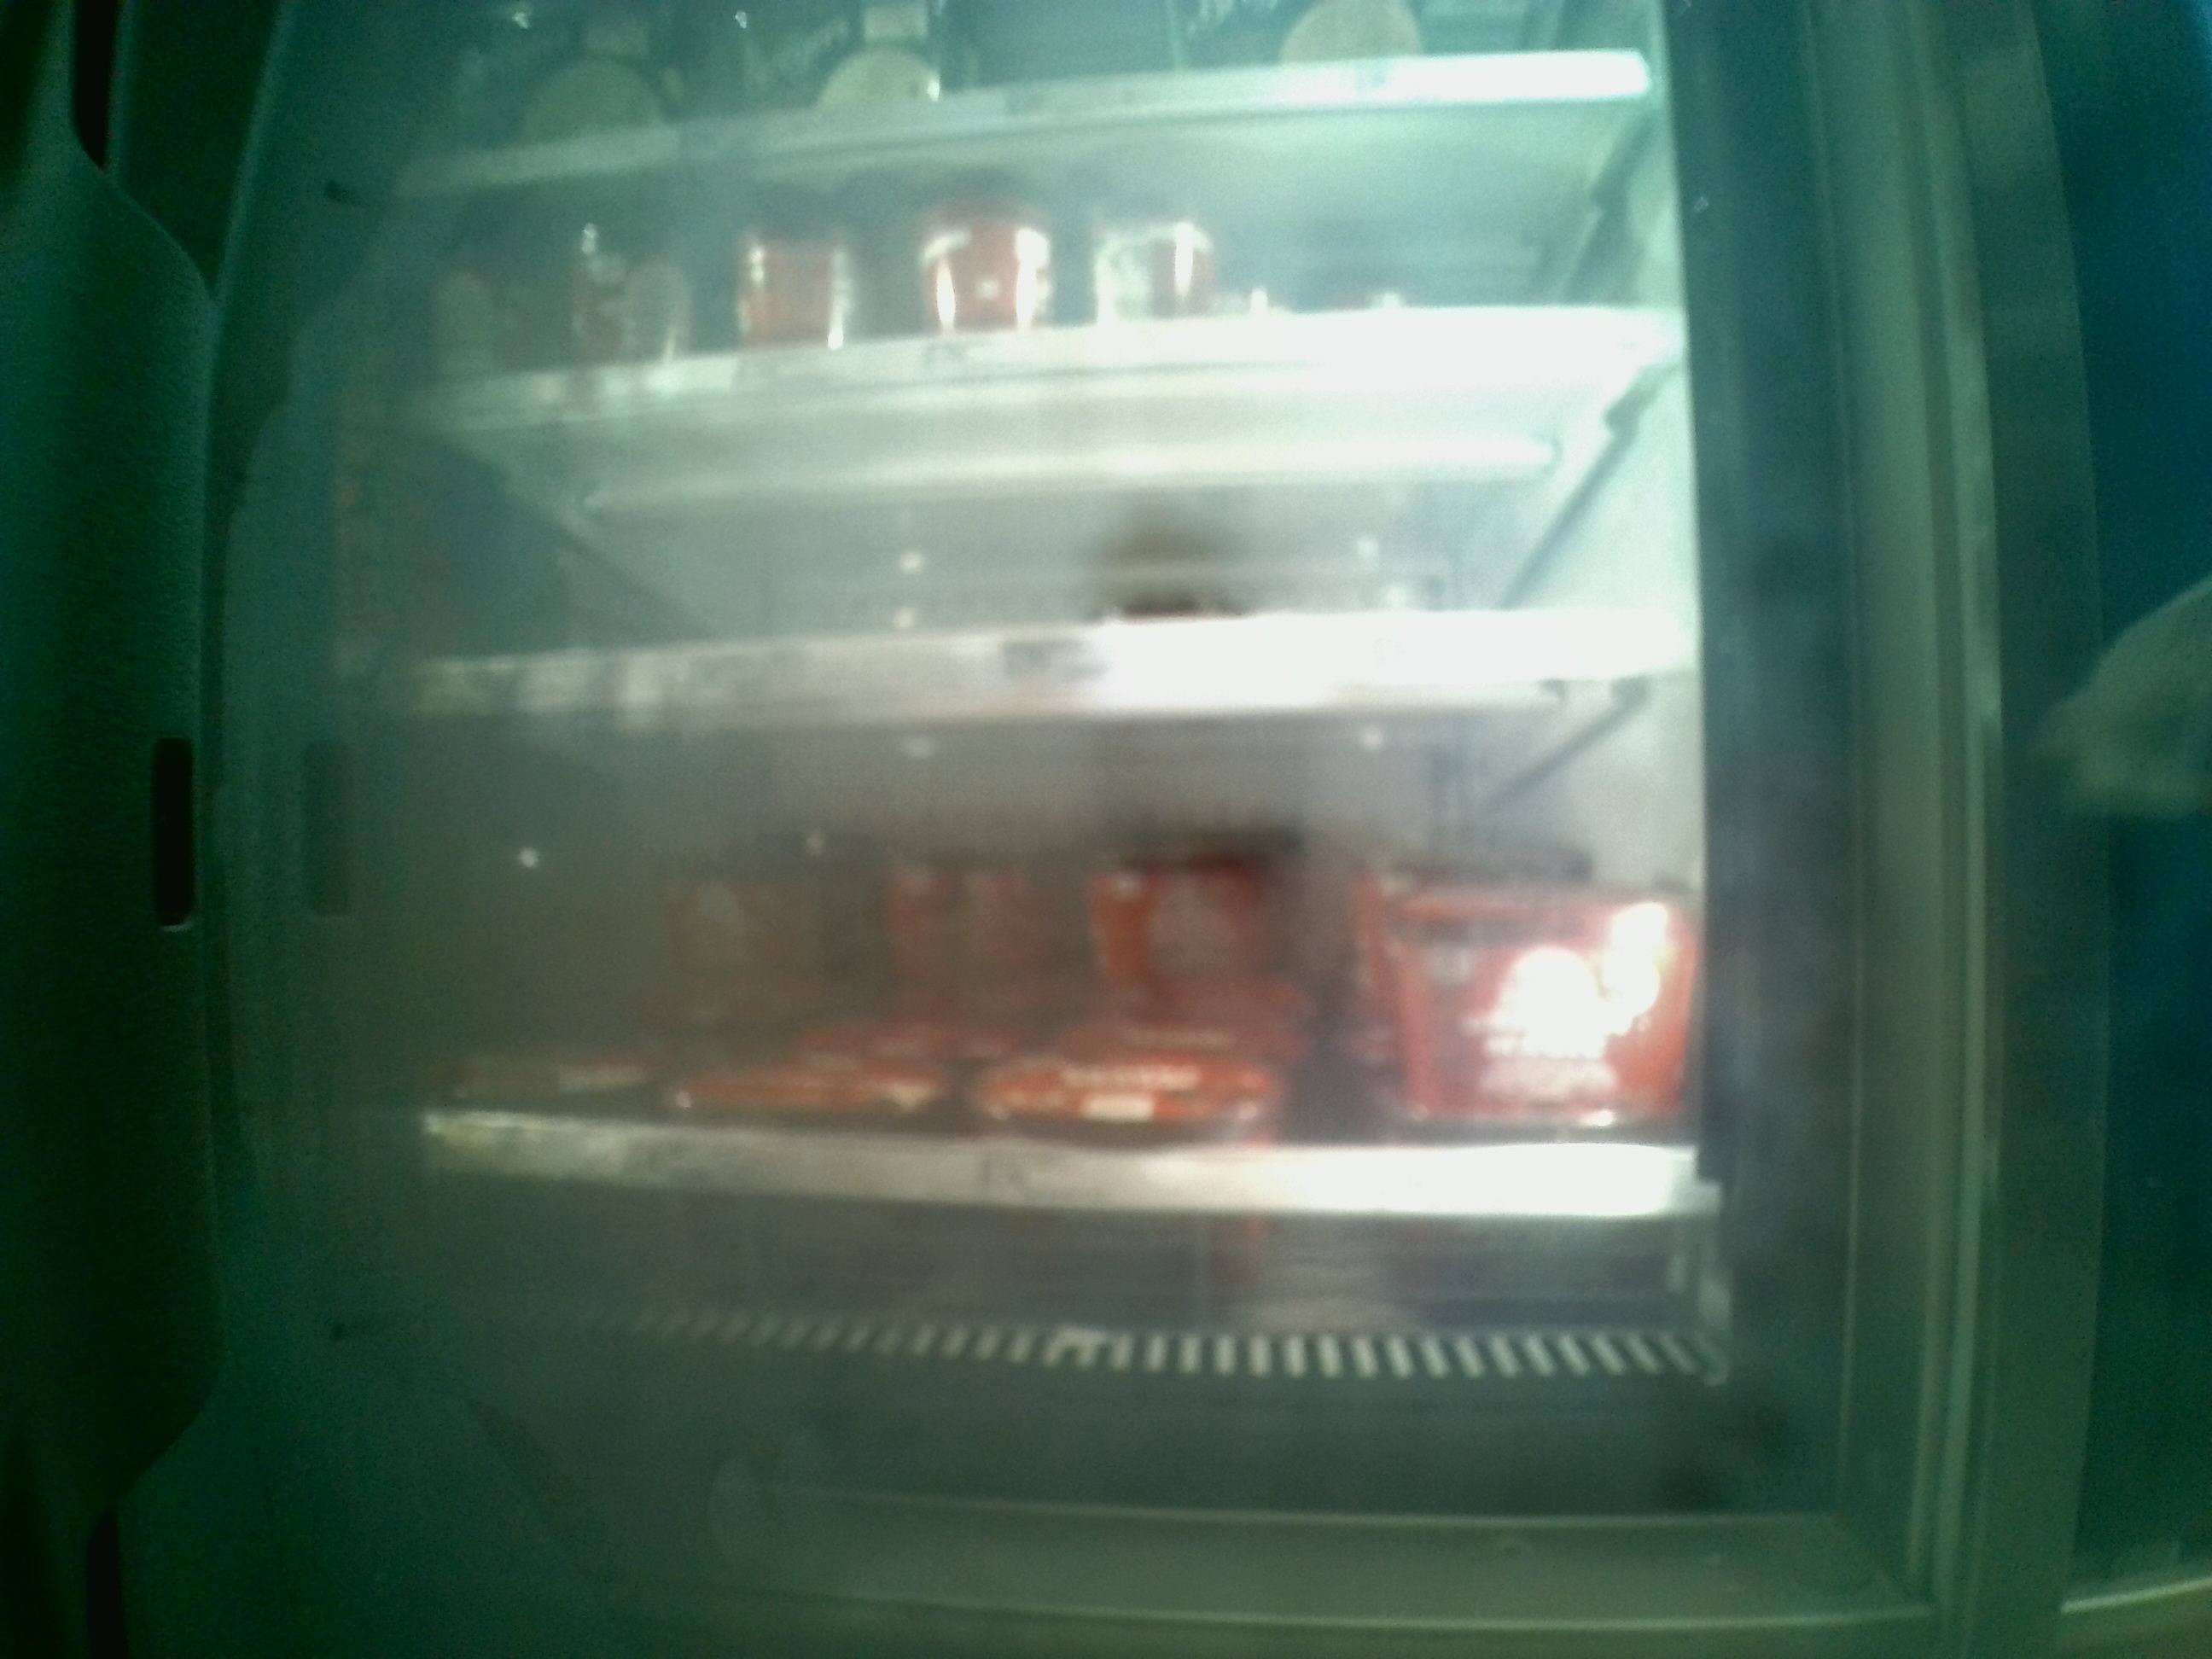shelf: (376, 706, 1731, 1316), (380, 350, 1691, 706)
